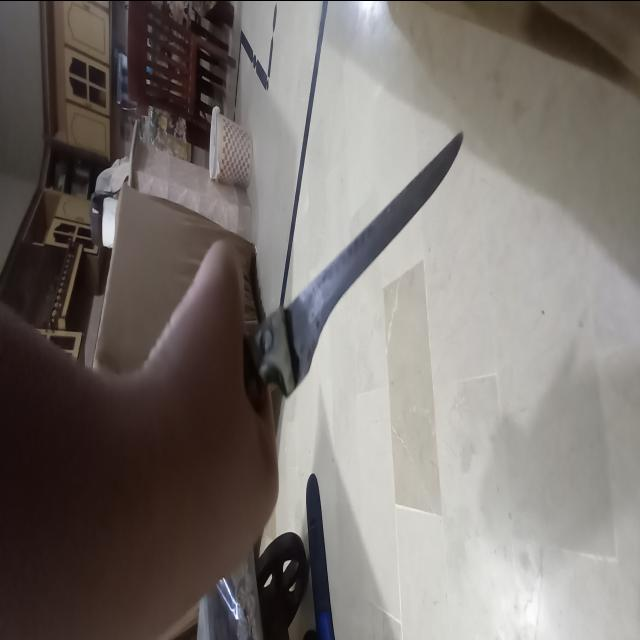Sharp-Object: (236, 115, 472, 416)
